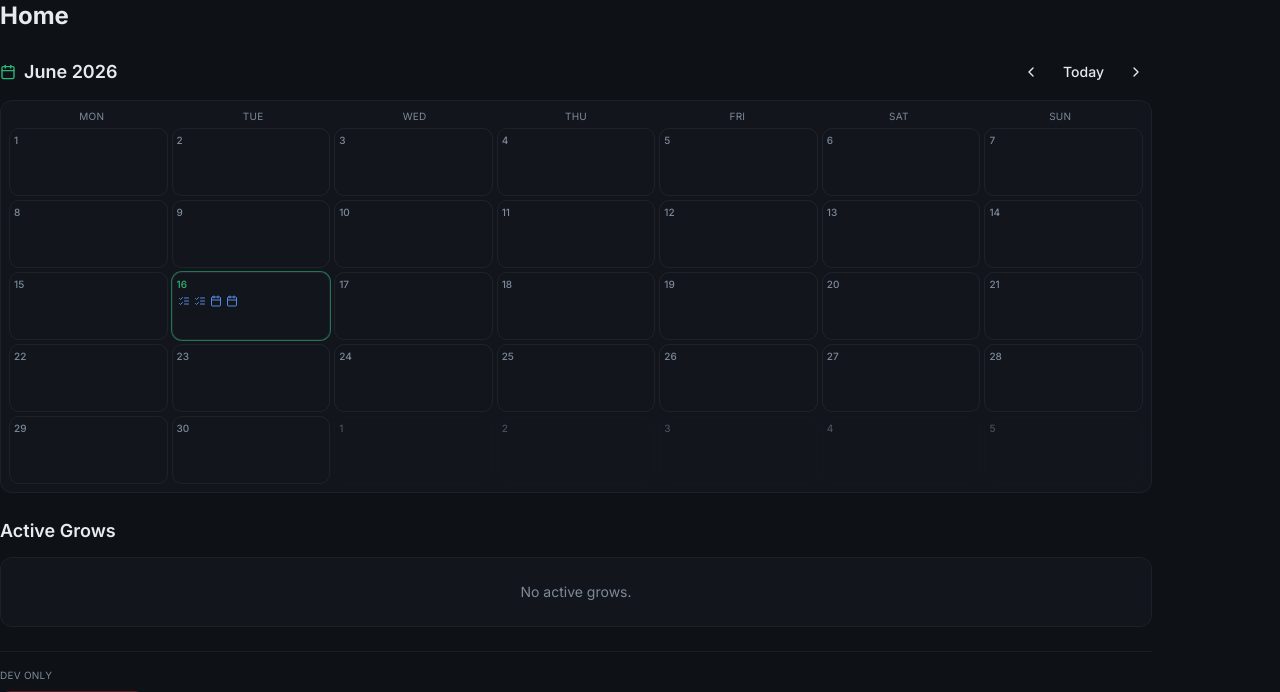
Test: Dashboard day drawer › opens drawer when clicking a day with items, filters by type, and searches
Click the day cell for today
Click the button "16": {"x": 251, "y": 306} left=172, top=272, right=330, bottom=340
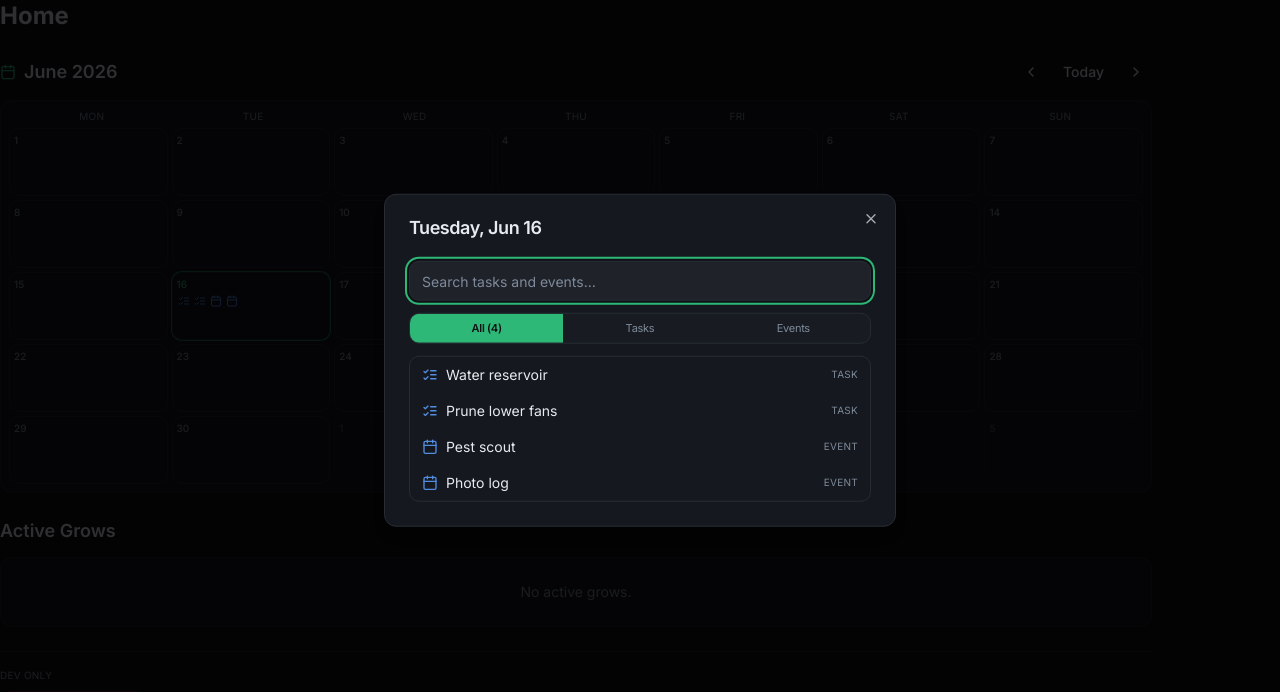
Now the text "Water reservoir" is shown, box left=446, top=365, right=548, bottom=382
Now the text "Pest scout" is shown, box left=446, top=437, right=516, bottom=454
Filter to Tasks only
Click the tab "Tasks": {"x": 640, "y": 328} left=563, top=314, right=717, bottom=342
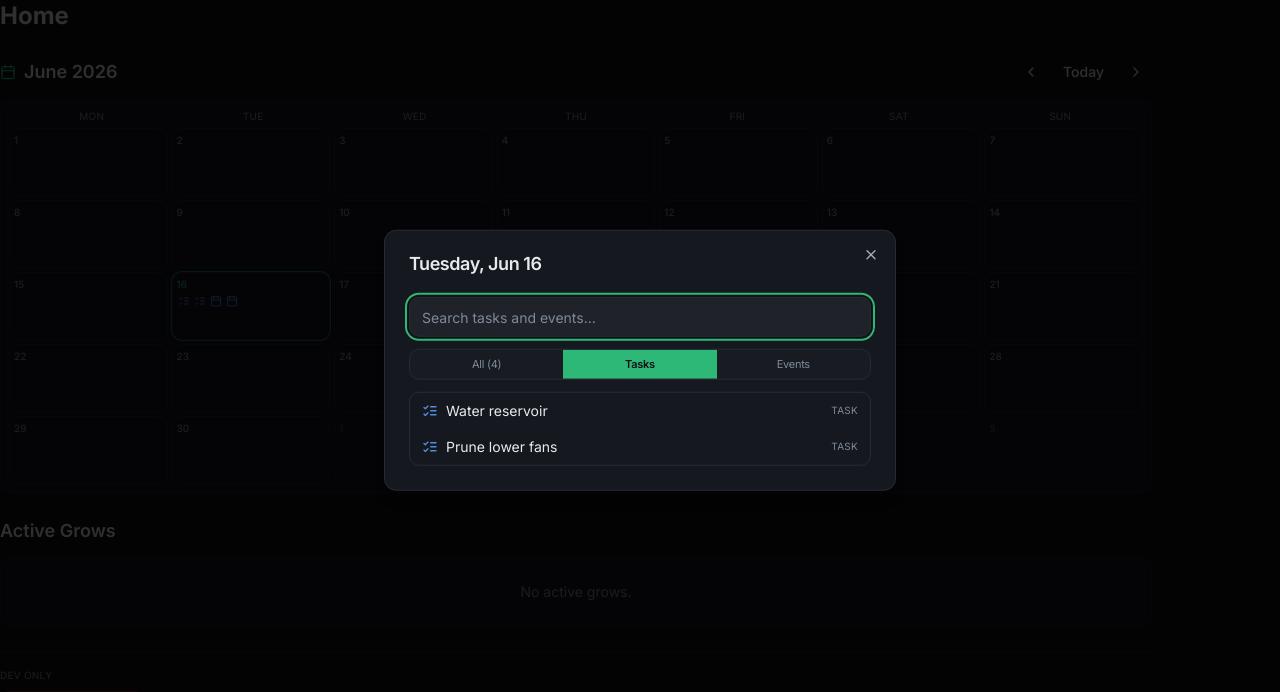
Now the text "Water reservoir" is shown, box left=446, top=401, right=548, bottom=418
Now the text "Pest scout" is gone
Switch back to All and search
Click the tab "All (4)": {"x": 487, "y": 364} left=410, top=350, right=563, bottom=378
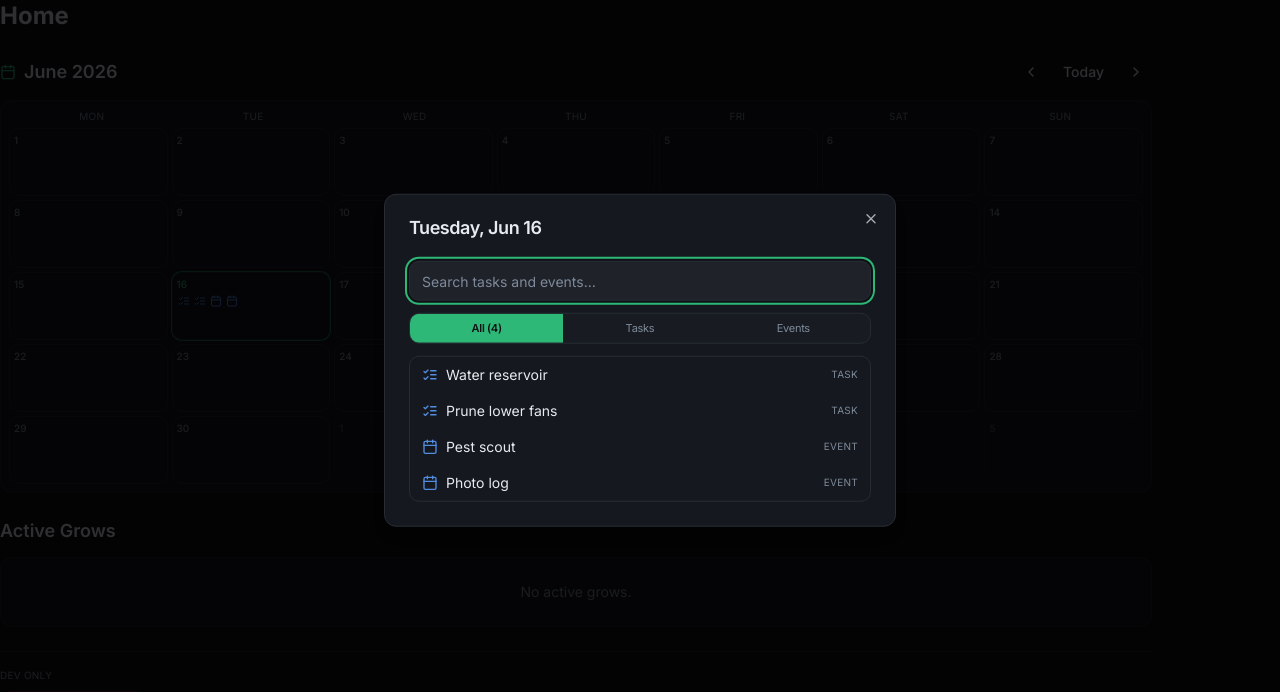
In the field named "search day agenda": {"x": 640, "y": 281} left=409, top=261, right=871, bottom=301, type "photo"
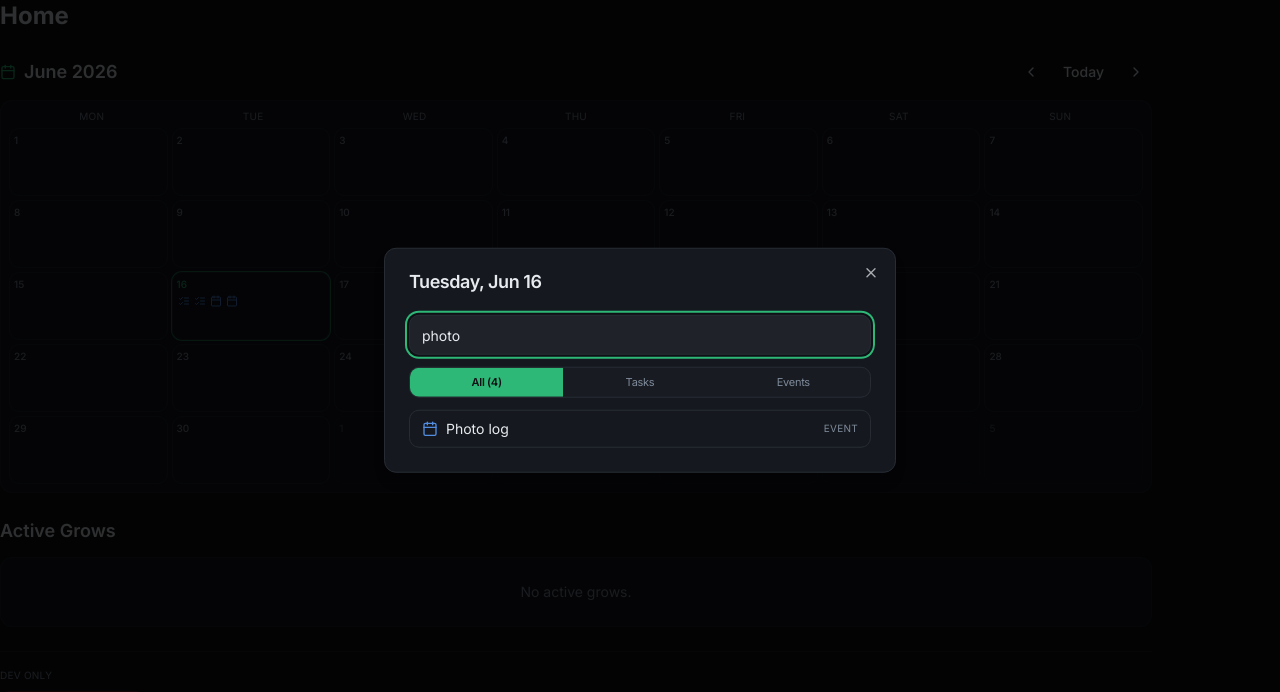
Now the text "Photo log" is shown, box left=446, top=419, right=509, bottom=436
Now the text "Water reservoir" is gone
Now the text "Prune lower fans" is gone
